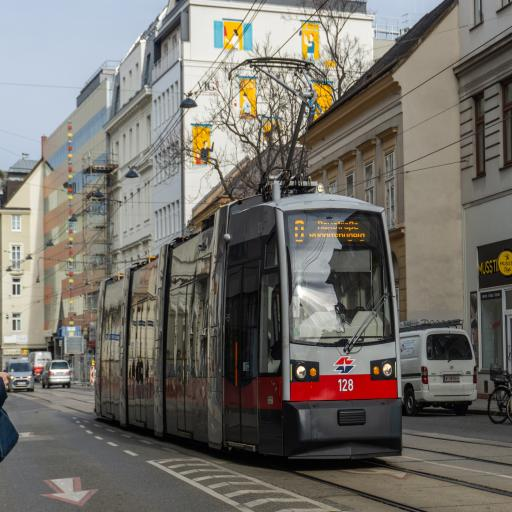ULF: (93, 194, 401, 455)
